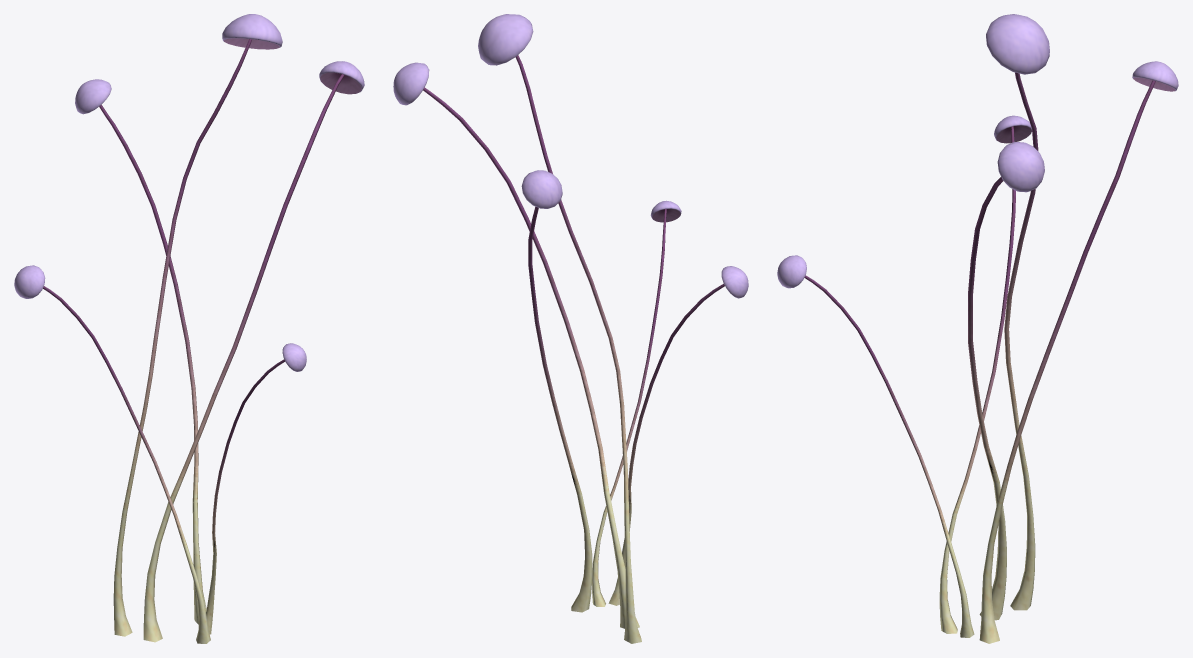
Rendered from Cartoon Seaweed_13-1-16.fbx.
3 views of the same model, side by side, from view 1: azimuth 30°, elevation 25°; view 2: azimuth 150°, elevation 25°; view 3: azimuth 270°, elevation 25° (orthographic). The views are drawn at different scales.
Parts seen in each view (by area): view 1: Cartoon Seaweed_13.1.16; view 2: Cartoon Seaweed_13.1.16; view 3: Cartoon Seaweed_13.1.16.
Part boxes in pixels (x1=…): Cartoon Seaweed_13.1.16: x1=14, y1=14, x2=364, y2=643; Cartoon Seaweed_13.1.16: x1=393, y1=14, x2=748, y2=643; Cartoon Seaweed_13.1.16: x1=777, y1=14, x2=1178, y2=643.
Bounding box in the file's own units: 68.16 × 110 × 60.98.
Materials: 1 (1 with a texture image).
